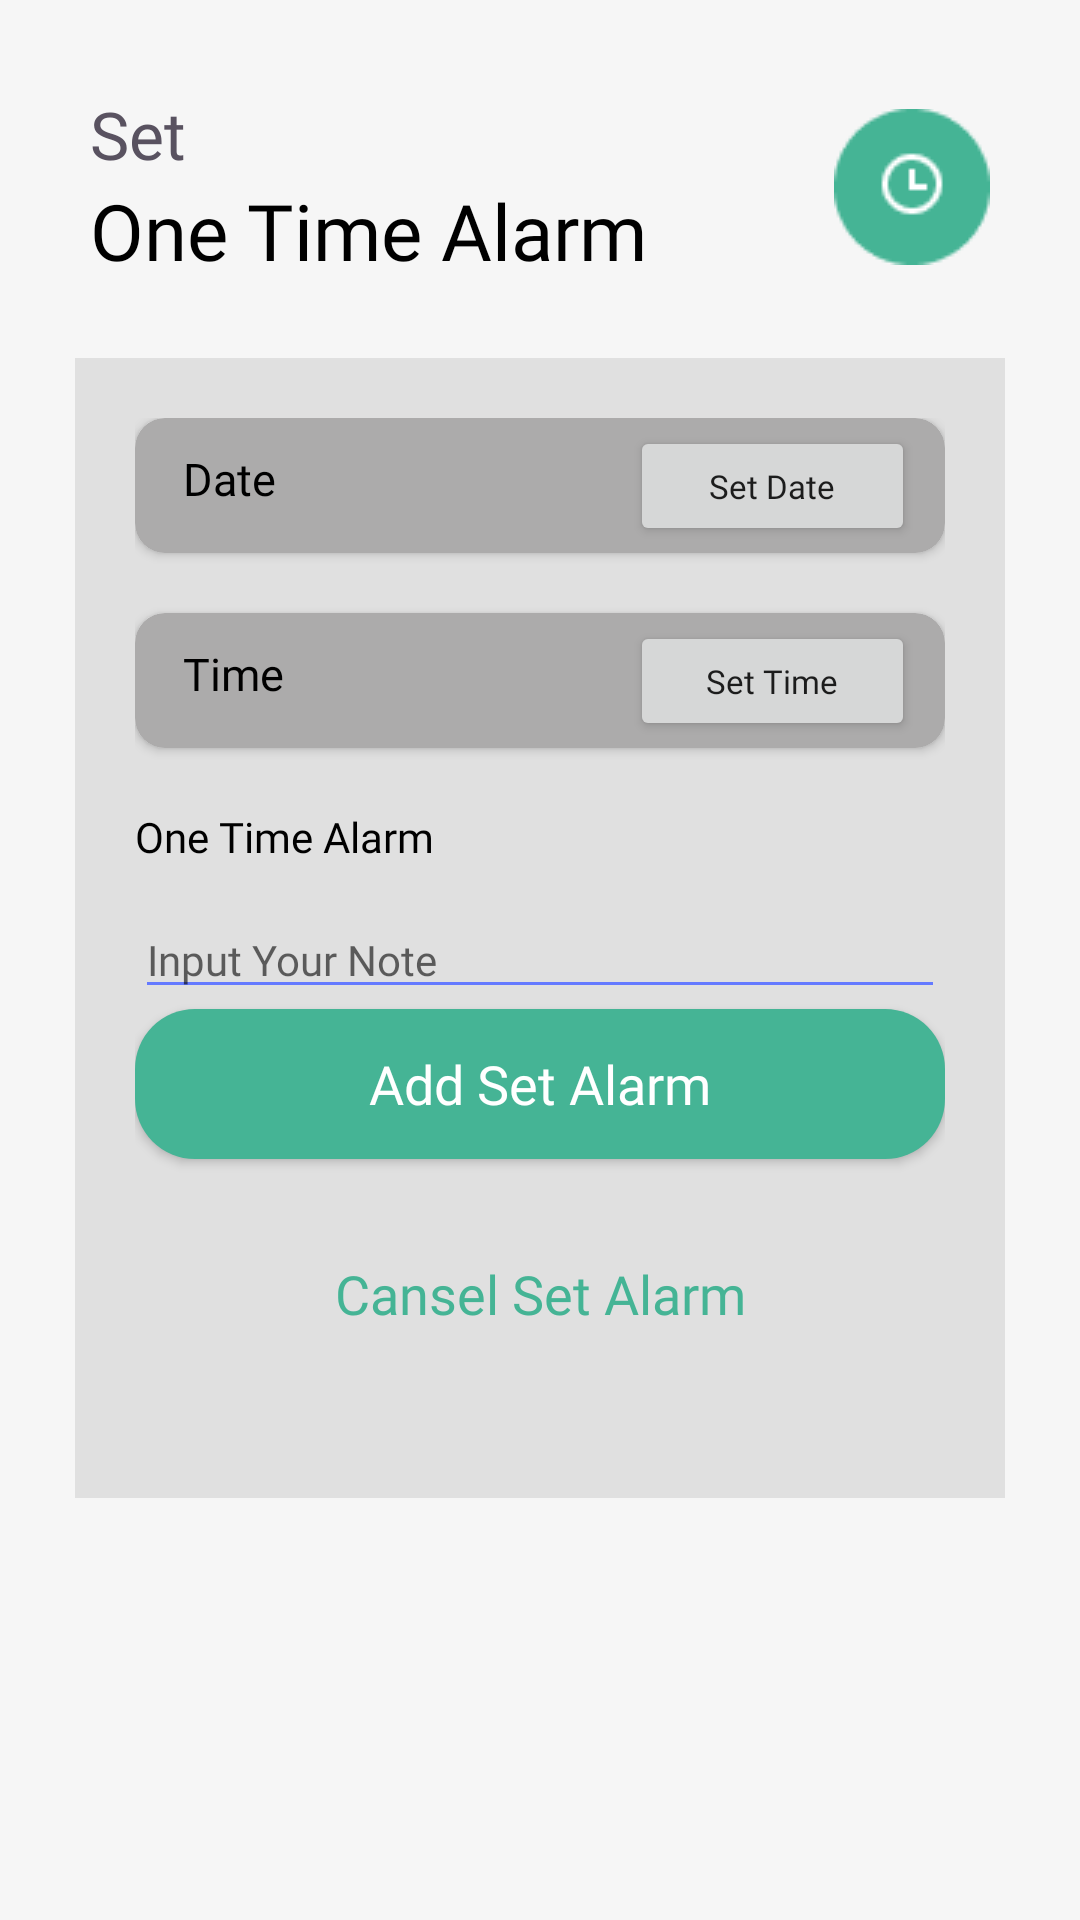

Named icons in this screenshot (1080px x 1920px) and their centers, point (x, y):
one time: point (912, 187)
